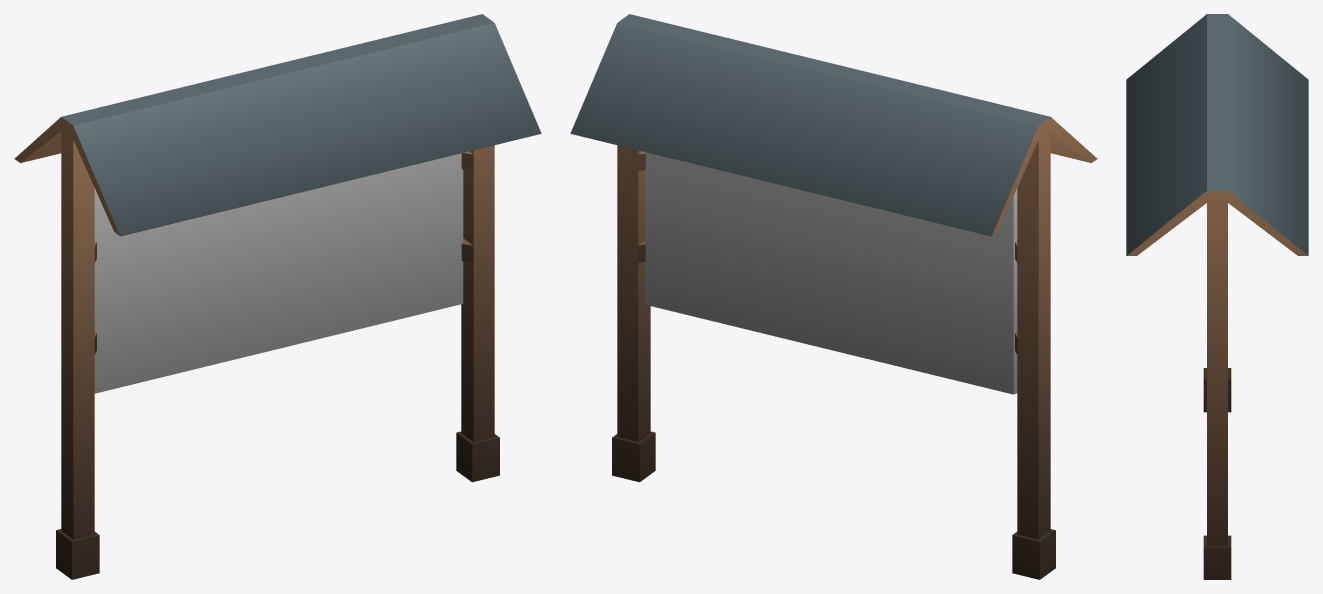
File: Notice Board.glb
The picture shows the model from 3 angles, left to right: view 1: azimuth 30°, elevation 25°; view 2: azimuth 150°, elevation 25°; view 3: azimuth 270°, elevation 25°; orthographic projection. The views are drawn at different scales.
Visible parts, largest first — view 1: Notice Board; view 2: Notice Board; view 3: Notice Board.
Part boxes in pixels (<box>): Notice Board: <box>14,14,541,579</box>; Notice Board: <box>570,14,1097,579</box>; Notice Board: <box>1126,14,1308,579</box>.
Size of the model in its own units: 3.95 by 3.98 by 1.7.
Materials: 1 (1 with a texture image).
